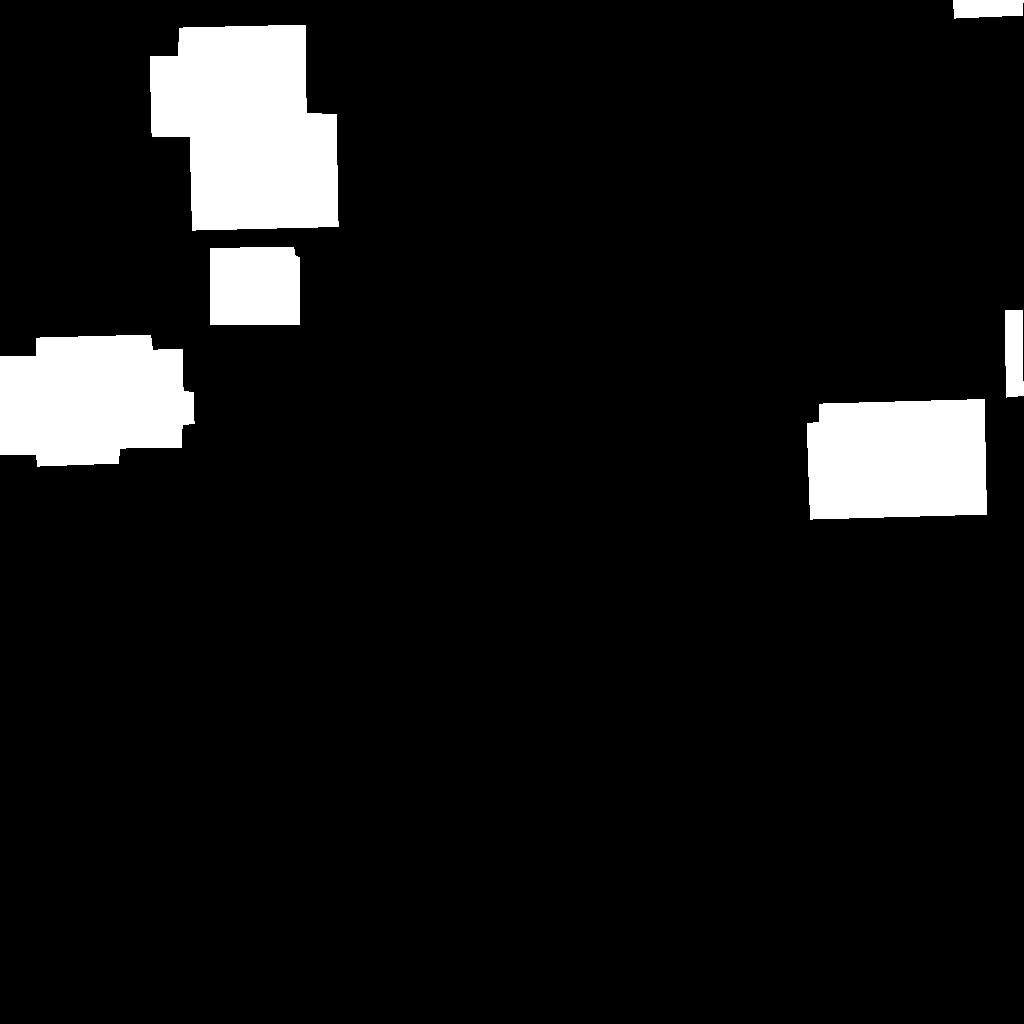building: (150, 25, 339, 231), (0, 335, 195, 467), (807, 399, 988, 520), (210, 247, 301, 325), (1005, 310, 1024, 398), (953, 0, 1024, 19)
